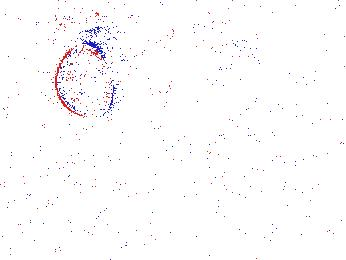moon jellyfish: (267, 35, 346, 123), (205, 38, 272, 137), (104, 42, 174, 115), (112, 101, 186, 166), (54, 43, 113, 119), (1, 57, 58, 114)
